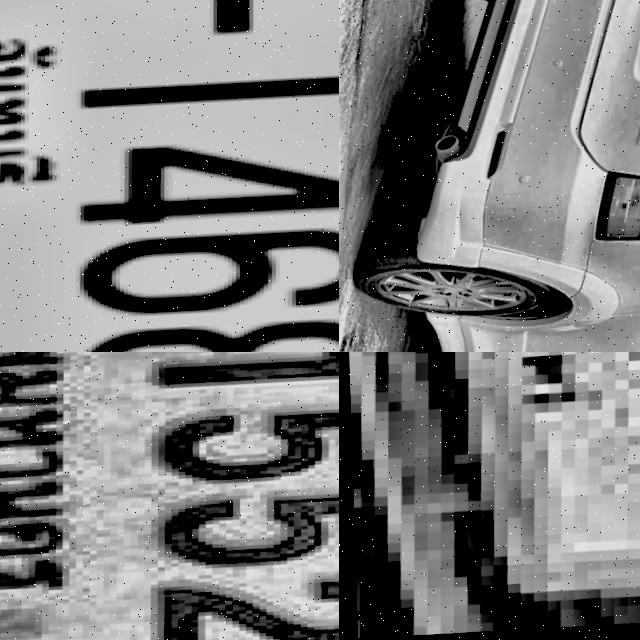license-plate: (0, 0, 339, 352), (0, 352, 339, 640), (376, 352, 640, 636)
